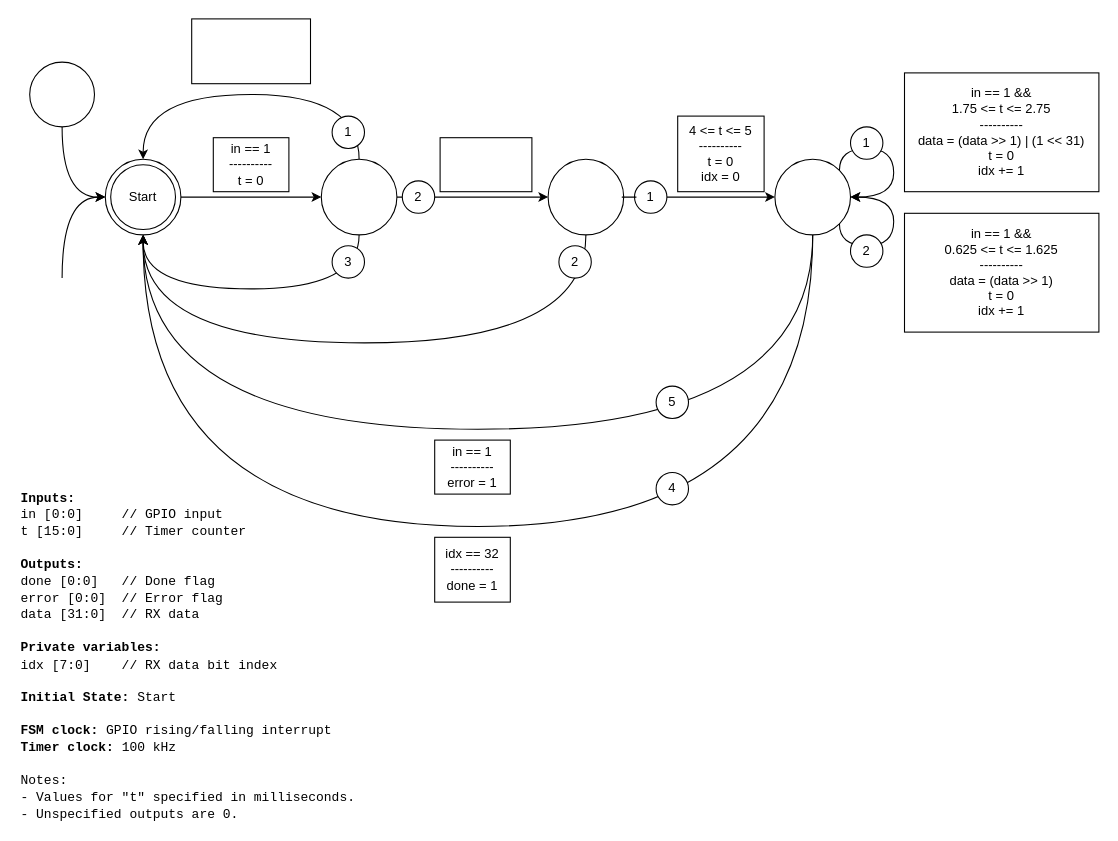
This 1118x841 diagram has some shape labels left out. The shapes that lost their labels are listed below. From the top down, each one's box as (x1, y1, x2, y2) in pixels, then its label:
(191, 18, 310, 84): 1.75 <= t <= 2.75 ---------- repeat = 1
(29, 61, 94, 127): Error
(439, 137, 532, 192): 8.5 <= t <= 9.5 --------- t = 0
(320, 158, 397, 235): AGCH
(547, 158, 624, 235): AGCL
(774, 158, 850, 235): Data
